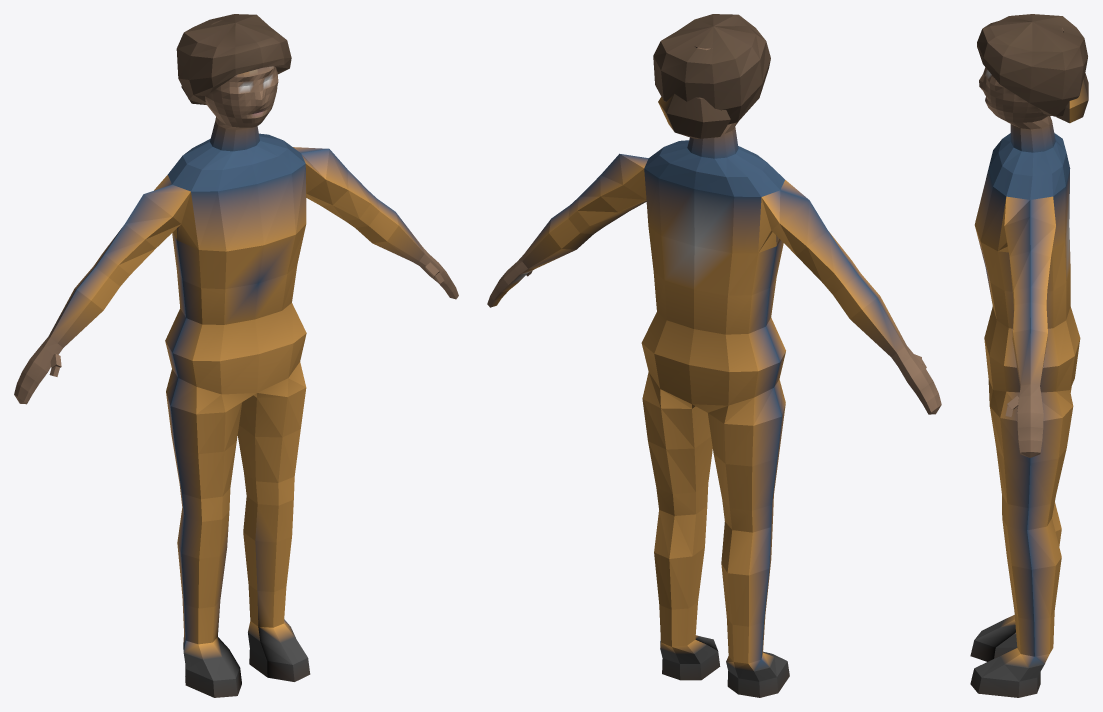
Rendered from char__pessoa__piloto_m01.glb.
3 views of the same model, side by side, from view 1: azimuth 30°, elevation 25°; view 2: azimuth 150°, elevation 25°; view 3: azimuth 270°, elevation 25° (orthographic). The views are drawn at different scales.
Visible parts, largest first — view 1: char__pessoa__piloto_m01; view 2: char__pessoa__piloto_m01; view 3: char__pessoa__piloto_m01.
Part boxes in pixels (left/top/right/bottom): char__pessoa__piloto_m01: left=14, top=14, right=458, bottom=697; char__pessoa__piloto_m01: left=487, top=14, right=941, bottom=697; char__pessoa__piloto_m01: left=970, top=14, right=1088, bottom=697.
Size of the model in its own units: 1.17 by 1.66 by 0.2725.
